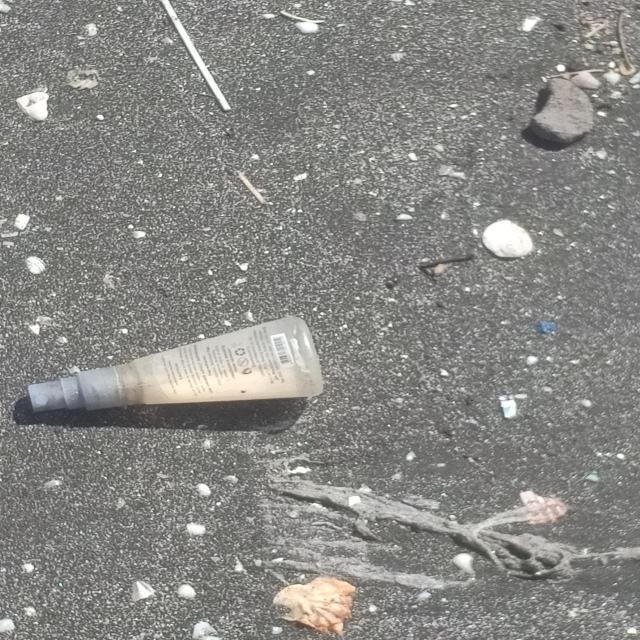plastic_waste: (28, 316, 326, 415), (161, 1, 232, 112)
